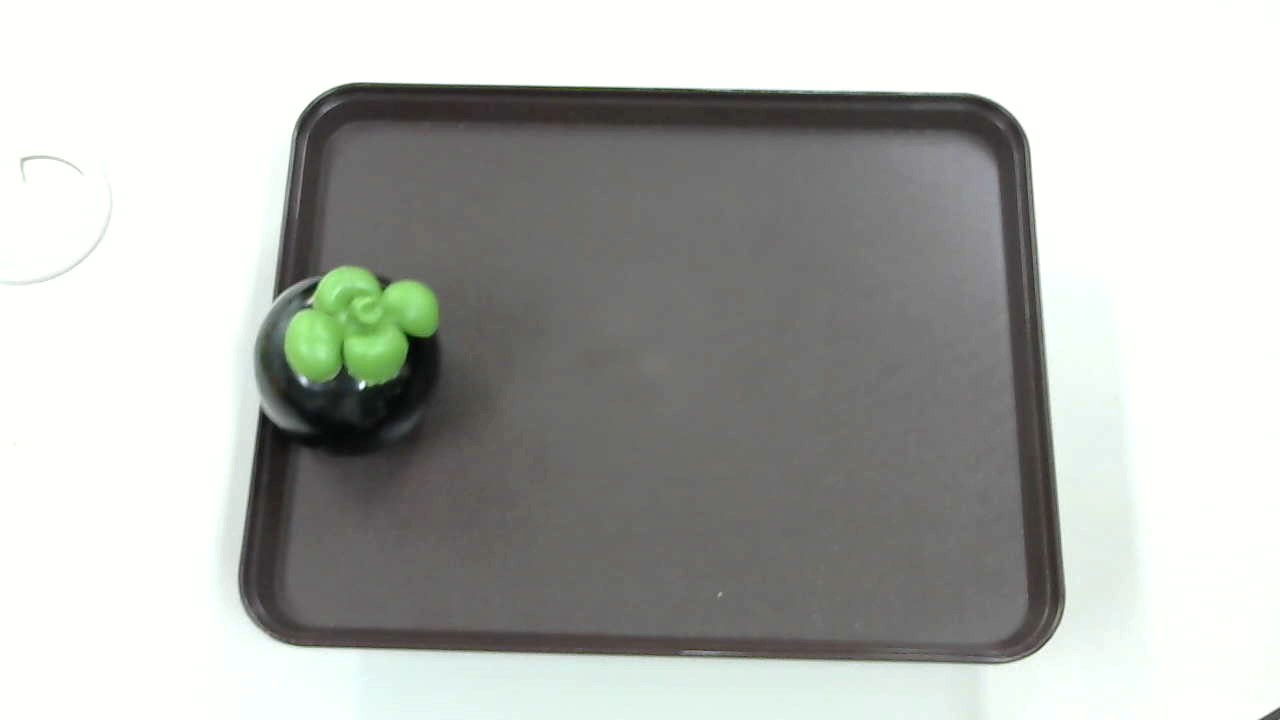mangosteen: (244, 264, 464, 466)
